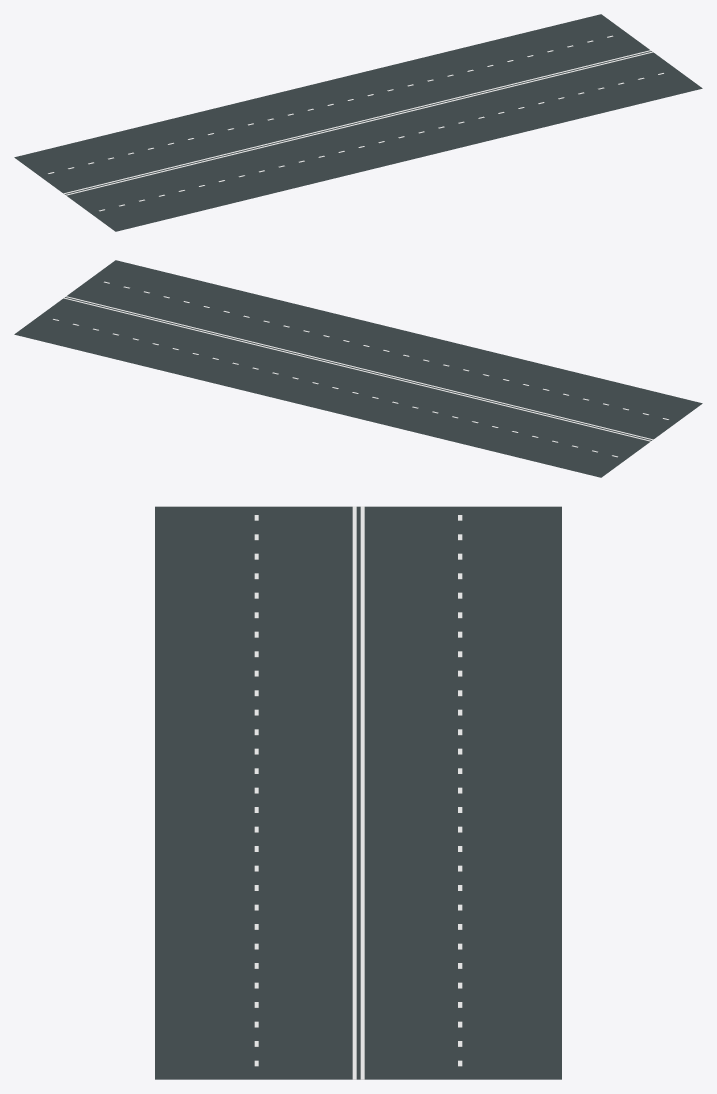
The model's file is road.fbx.
3 views of the same model, one above another, from view 1: azimuth 30°, elevation 25°; view 2: azimuth 150°, elevation 25°; view 3: azimuth 270°, elevation 25° (orthographic). The views are drawn at different scales.
Visible parts, largest first — view 1: Plane.003; view 2: Plane.003; view 3: Plane.003.
Boxes of the visible parts, bbox=[...] form: Plane.003: bbox=[14, 14, 702, 231]; Plane.003: bbox=[14, 260, 702, 477]; Plane.003: bbox=[155, 506, 561, 1079].
Size of the model in its own units: 5000 by 1 by 1500.
